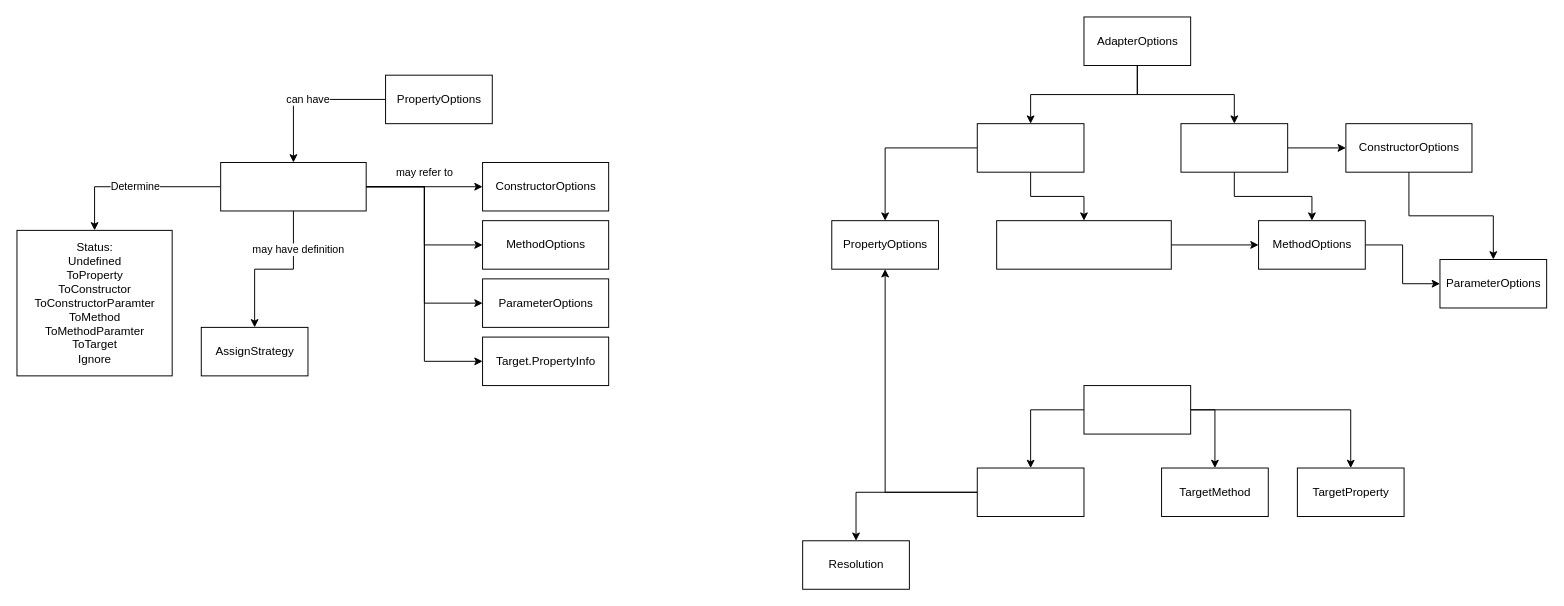
The diagram is 1564 pixels wide and 606 high, and some of its shapes have lost their labels. Here are the shapes that lost their labels. From the top down, the centre of each, then its label:
At pixel 1030 147: "SourceOptions".
At pixel 1234 147: "TargetOptions".
At pixel 293 186: "ResolutionOptionsBase".
At pixel 1083 244: "SourceToMethodOptions".
At pixel 1137 409: "AdapterContext".
At pixel 1030 492: "SourceItem".
